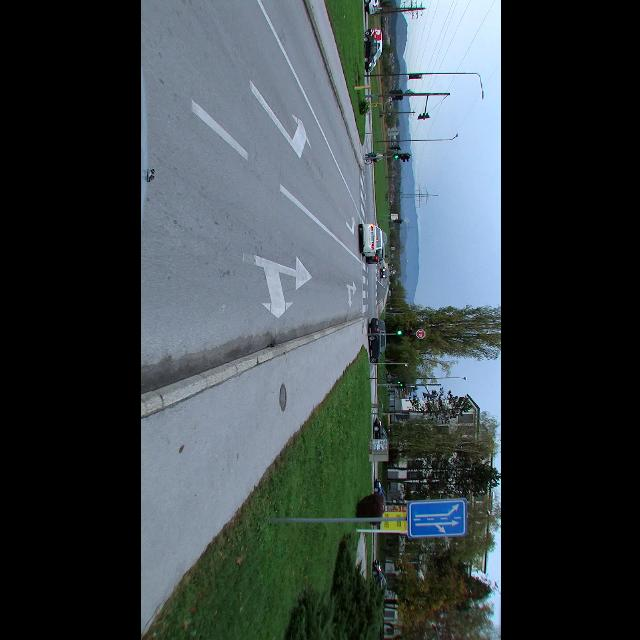Rectangle: (406, 498, 468, 538)
Stop: (414, 329, 426, 338)
